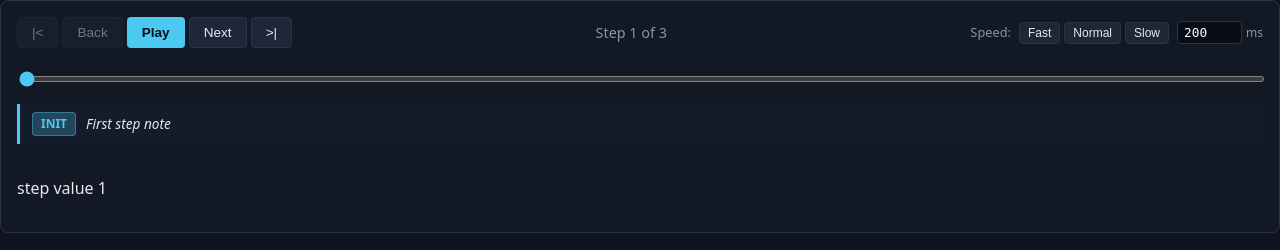
Test: StepPlayer component › clicking Play at the final step restarts from step 1
// Jump to last step
Click the button named "Last step" at (271, 32), box left=251, top=17, right=292, bottom=48
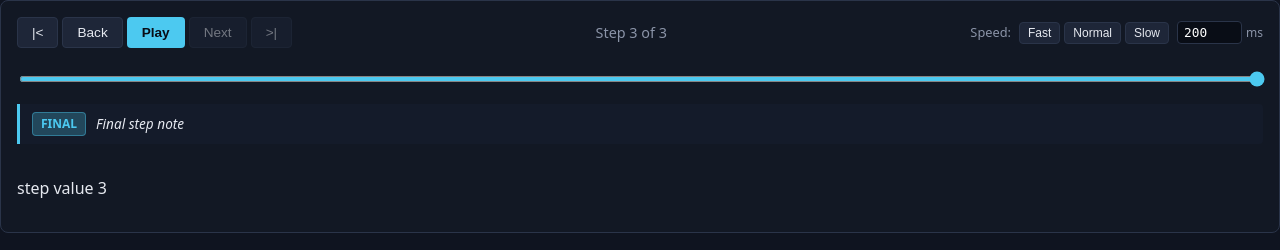
Expected: the text "step value 3" is shown, left=17, top=177, right=107, bottom=199
Click the button "Play" at (156, 32), box left=127, top=17, right=185, bottom=48
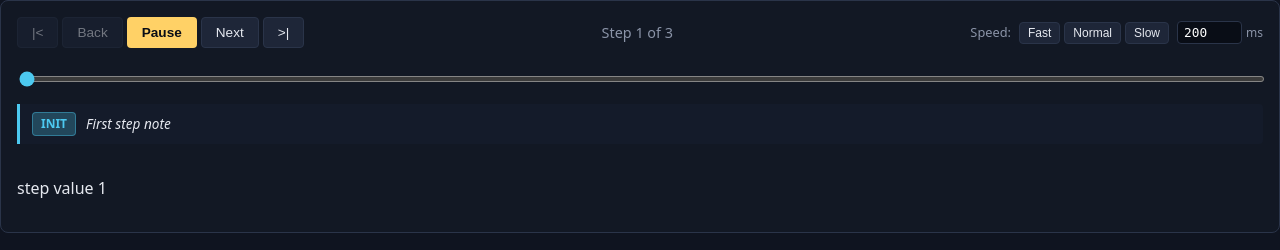
Expected: the button "Pause" is shown, left=127, top=17, right=197, bottom=48
Expected: the text "step value 1" is shown, left=17, top=177, right=107, bottom=199
